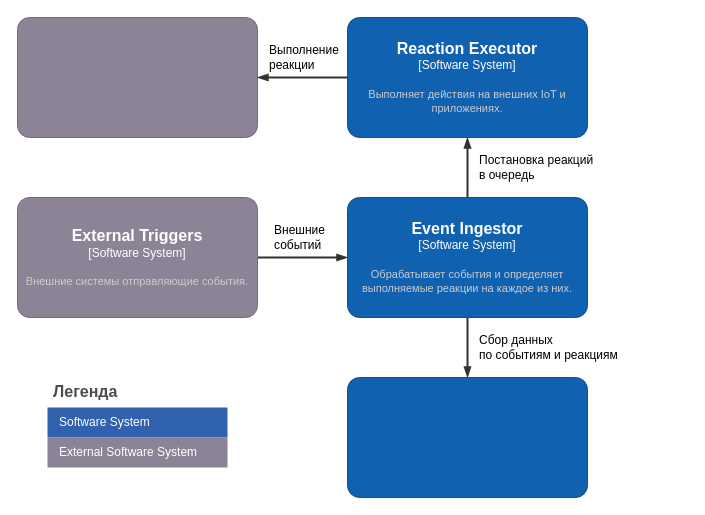
Image size: 705x515. Some labels were removed from this diagram. The shapes that lost their labels are listed below. From the top down, each one's centre as x and y in pixels, then its label:
At (x=137, y=77): "External IoT API [Software System] Реализует реакции во внешней среде.".
At (x=467, y=437): "Analytics [Software System] Отвечает за сбор и анализ данных.".
